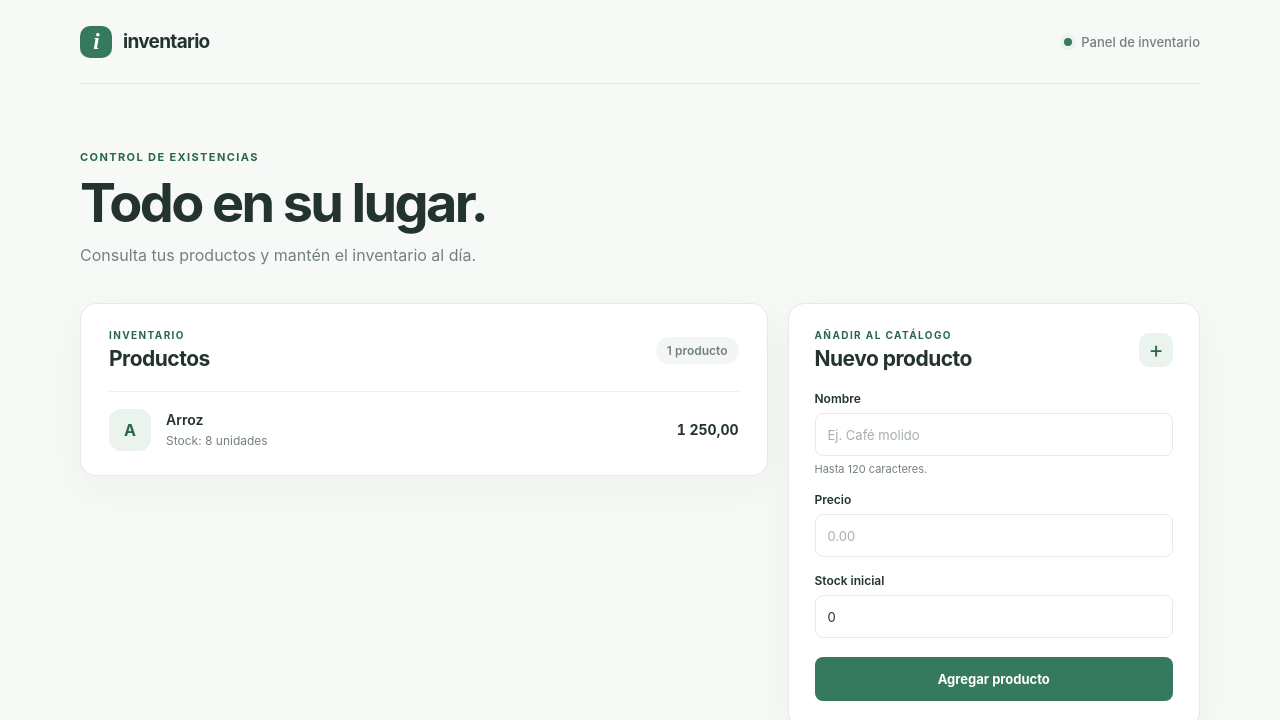
inventario de productos › muestra un mensaje en español cuando la API responde 422
The image size is (1280, 720).
Expected: the heading "Arroz" is shown, [166,411,203,428]
Type "Harina" into the field labelled "Nombre". click: (994, 435)
box: [814,413,1173,456]
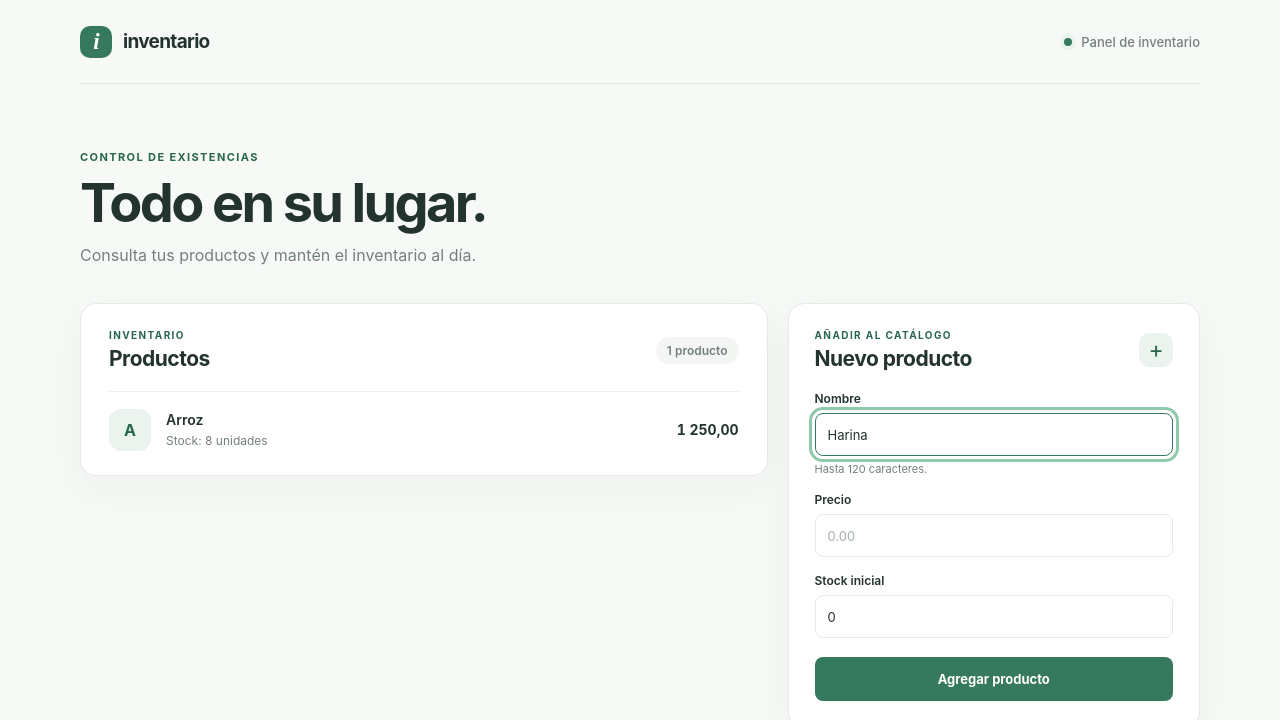
Type "700" into the number field labelled "Precio". click: (994, 536)
box: [814,514,1173,557]
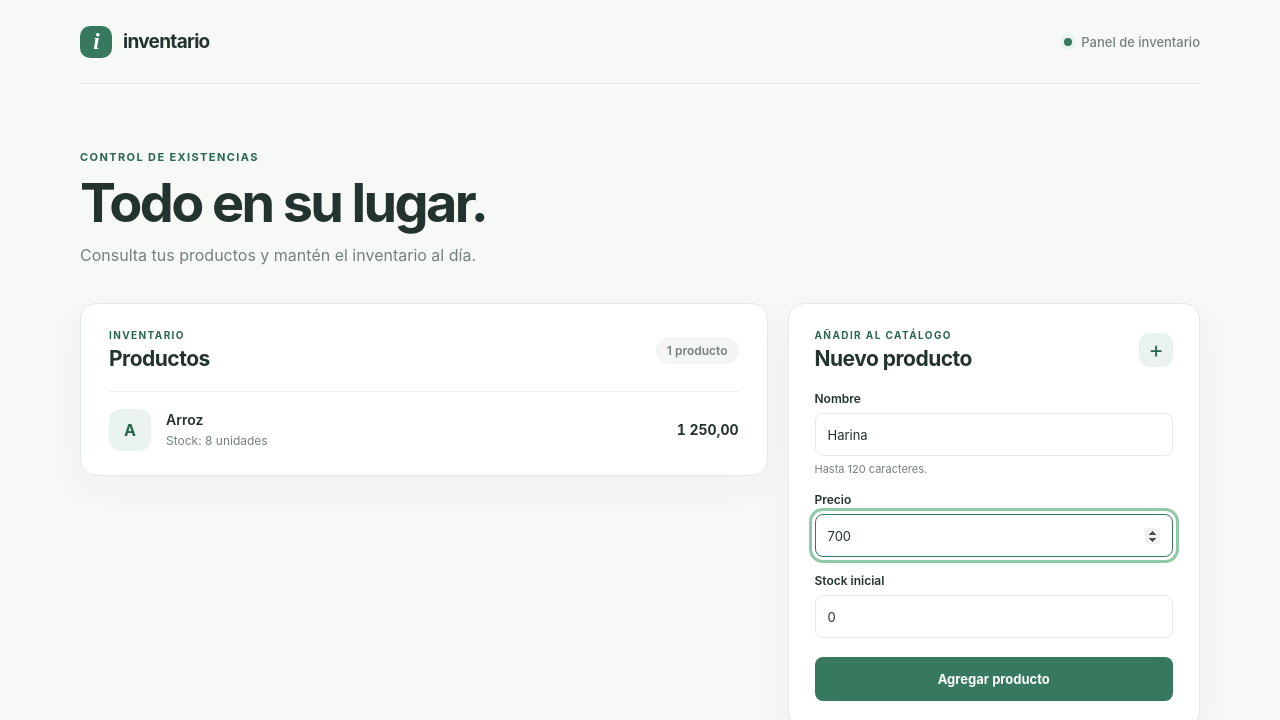
Click the button "Agregar producto". click: (994, 679)
box: [814,657,1173,701]
(page scrolled)
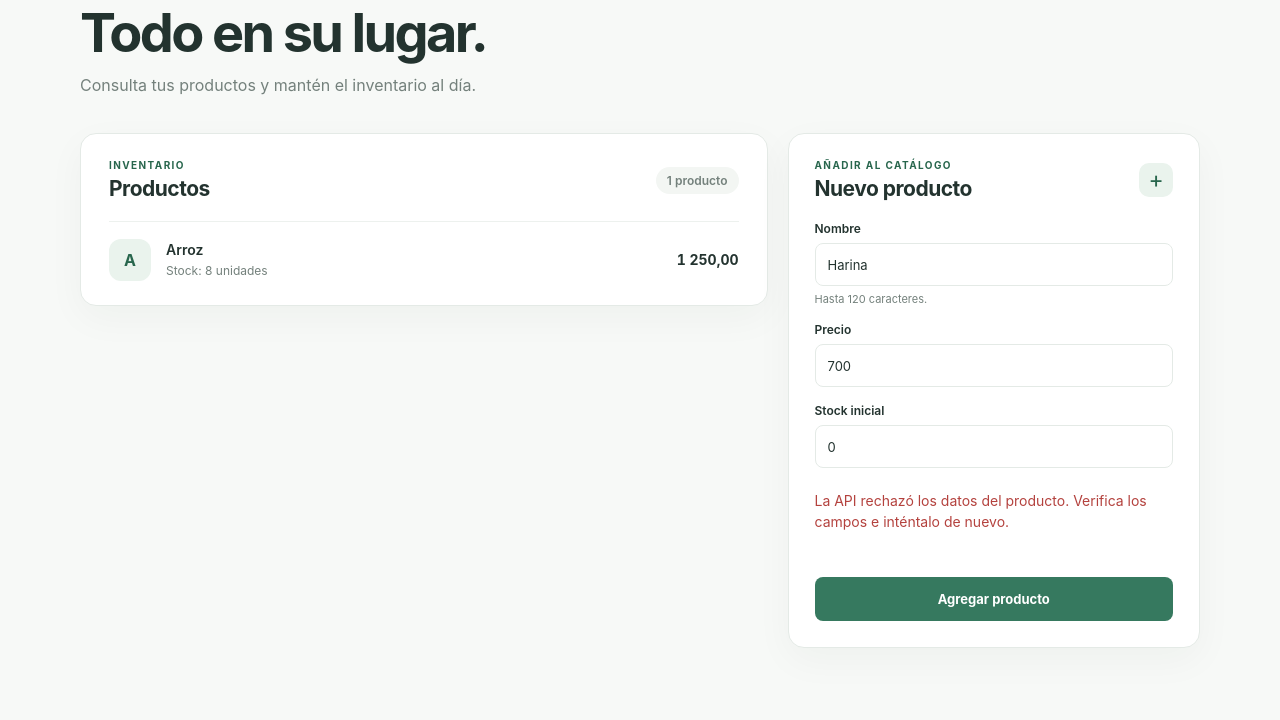
Expected: the message does not show "Input should", [814,492,1147,530]
Expected: the message shows "La API rechazó los datos del producto.", [814,492,1147,530]
